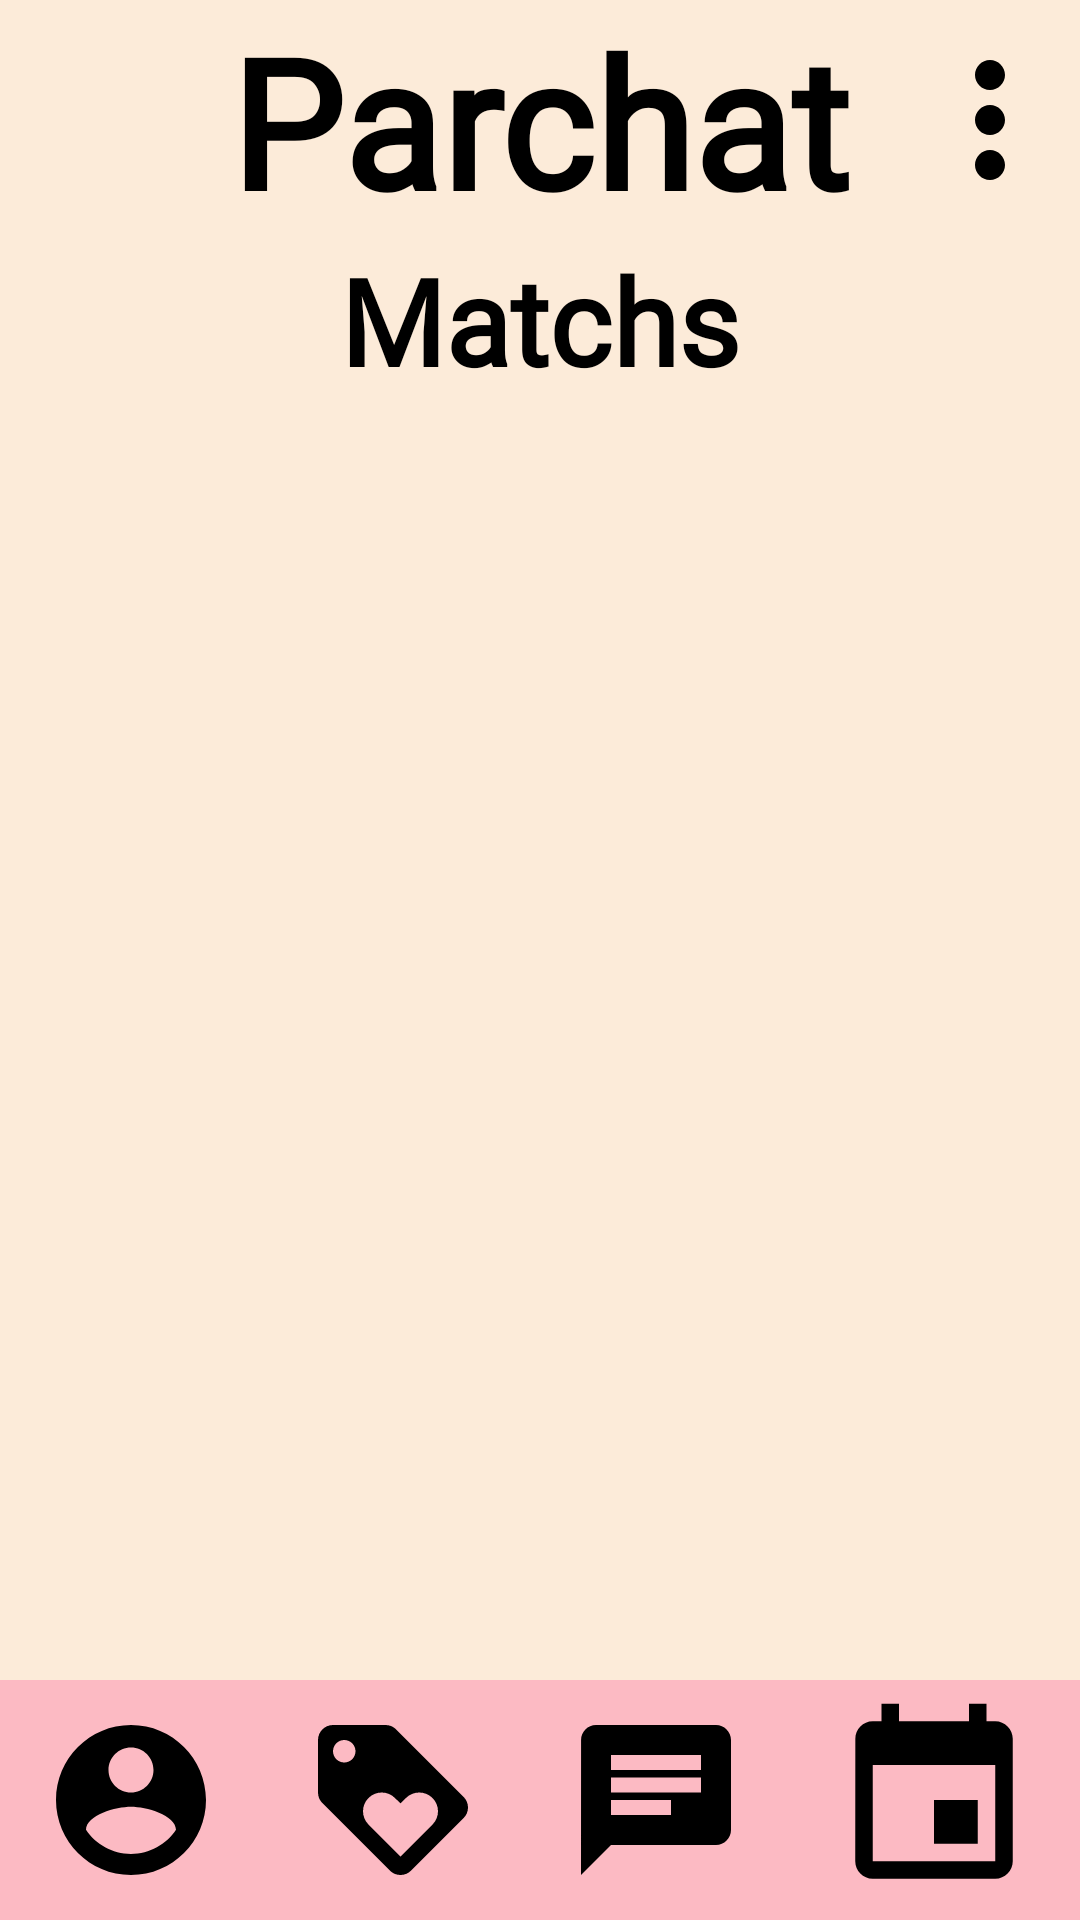

Icons on this 1080px x 1920px Android screen, each with its box as (x1, y1, x2, y2):
account circle: (56, 1725, 206, 1875)
chat: (581, 1725, 731, 1875)
event: (855, 1703, 1013, 1879)
loyalty: (318, 1725, 468, 1875)
